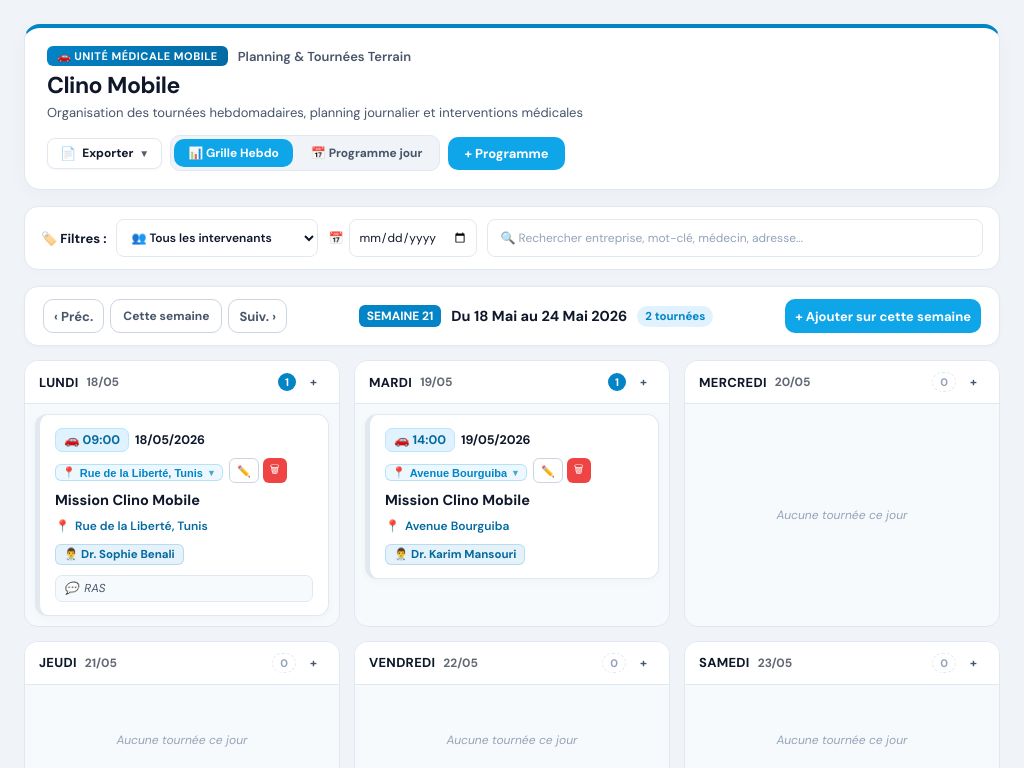
Test case: Clino Mobile page › switches to programme view
Click the button "📅 Programme jour": click(367, 153) 297,139 -> 436,167
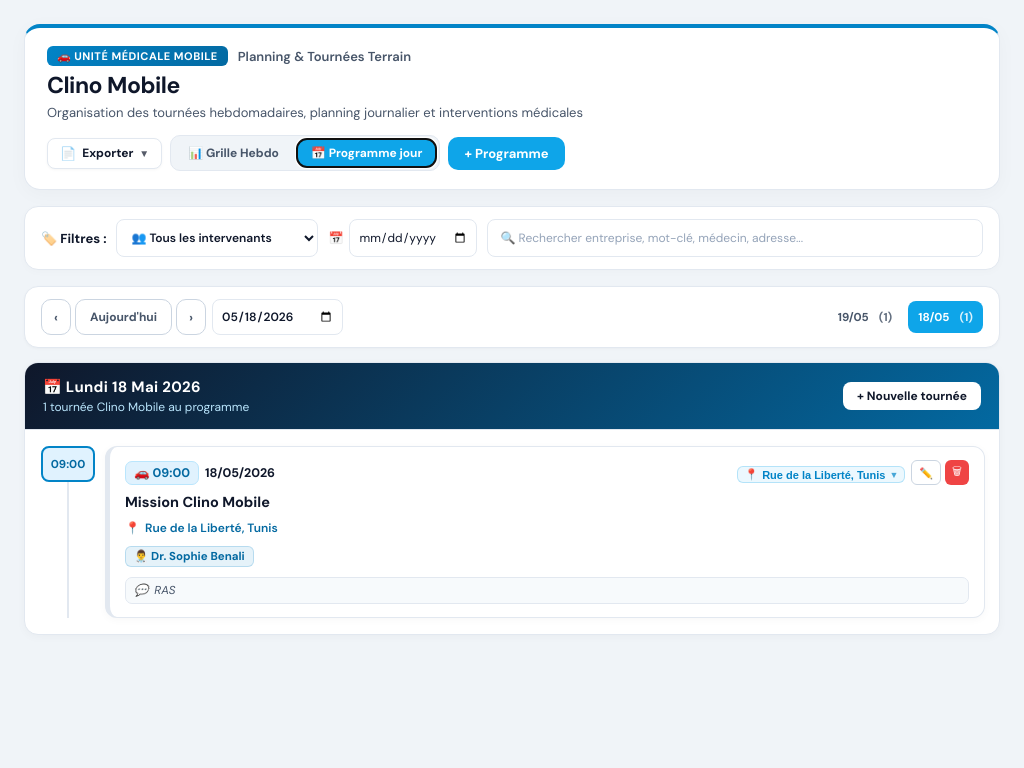
Now the text "1 tournée Clino Mobile au programme" is shown, box 43,399 -> 249,415
